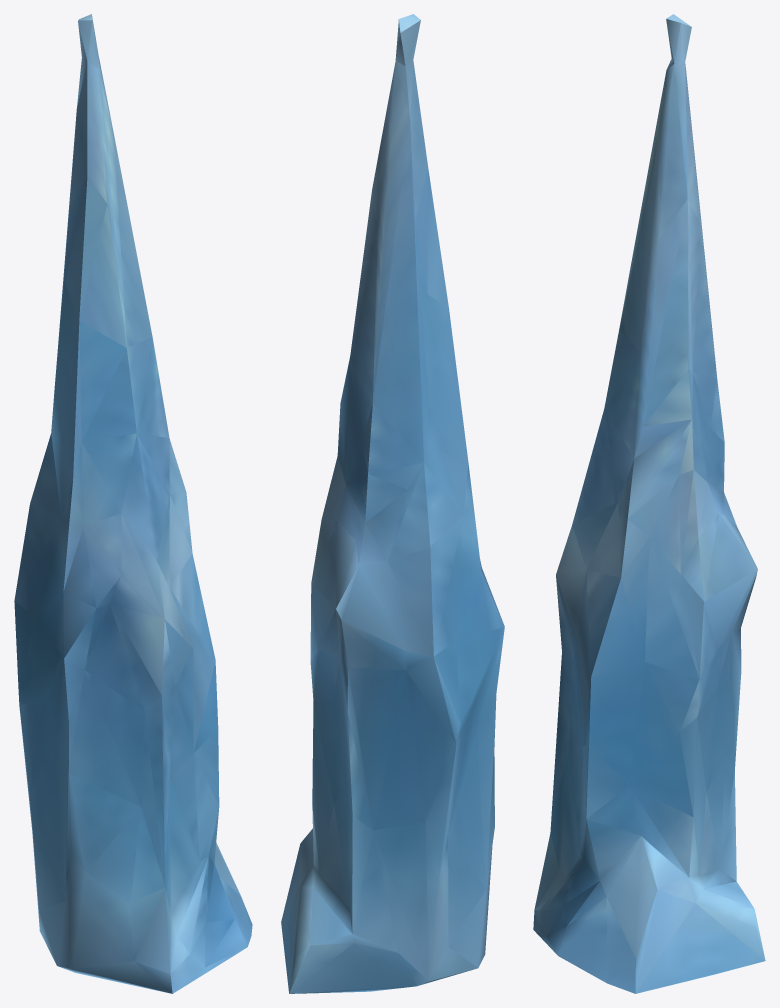
Rendered from pincho_escarcha_0_300.glb.
The picture shows the model from 3 angles, left to right: view 1: azimuth 30°, elevation 25°; view 2: azimuth 150°, elevation 25°; view 3: azimuth 270°, elevation 25°; orthographic projection. The views are drawn at different scales.
Visible parts, largest first — view 1: pincho_escarcha_0_malla; view 2: pincho_escarcha_0_malla; view 3: pincho_escarcha_0_malla.
Boxes of the visible parts, <box> form: pincho_escarcha_0_malla: <box>14,14,252,993</box>; pincho_escarcha_0_malla: <box>281,14,504,993</box>; pincho_escarcha_0_malla: <box>533,14,765,993</box>.
Bounding box in the file's own units: 0.0611 × 0.2667 × 0.0617.
Materials: 1 (1 with a texture image).
